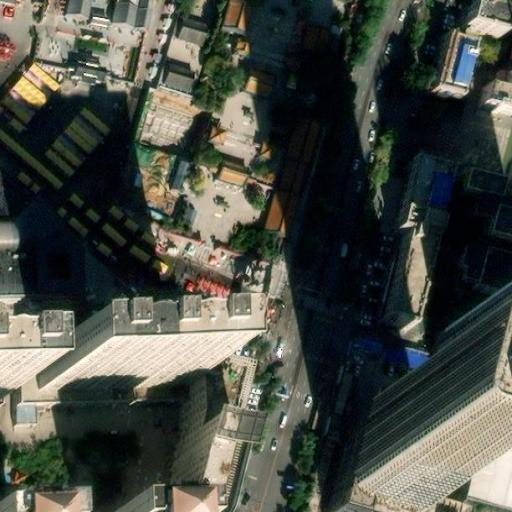building: (10, 356, 179, 407), (259, 118, 316, 238), (342, 437, 431, 512), (170, 362, 222, 489), (387, 224, 440, 347), (26, 352, 179, 389), (431, 323, 512, 391), (420, 454, 512, 512), (135, 96, 199, 151), (294, 26, 336, 109), (402, 170, 453, 233), (26, 248, 77, 311), (431, 45, 479, 110), (68, 0, 149, 37), (117, 134, 160, 201), (458, 252, 512, 301), (360, 336, 428, 369), (163, 473, 211, 512), (452, 0, 499, 36), (158, 62, 199, 95), (464, 180, 506, 210), (151, 85, 188, 117), (172, 21, 211, 50), (165, 40, 201, 71), (218, 4, 251, 35), (172, 189, 195, 233), (486, 82, 512, 120), (243, 69, 274, 97), (216, 159, 246, 187), (490, 218, 512, 249), (183, 0, 220, 12)
